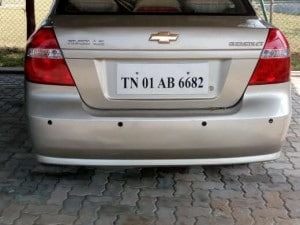T: (119, 75, 130, 91)
